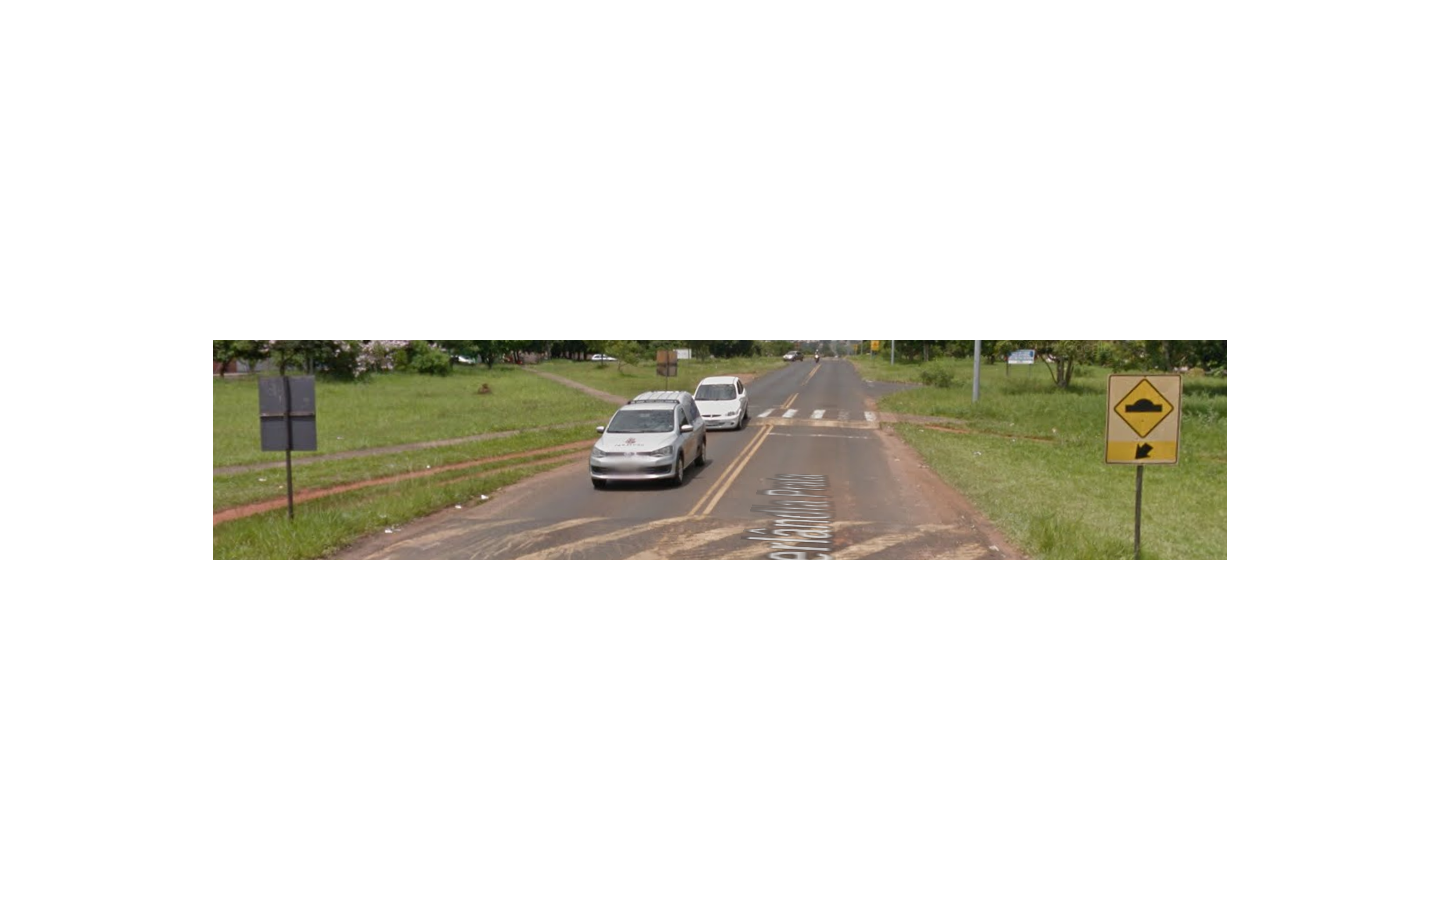lomb: (1105, 374, 1181, 465)
